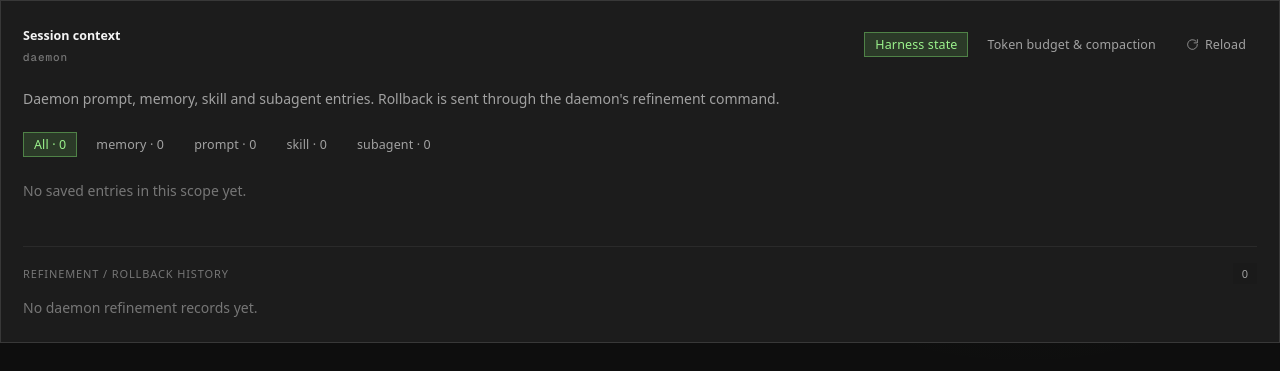
Test case: HarnessStatePanel native token budget › renders a daemon compaction failure as a visible notice
Click the button "Token budget & compaction" at point(1072, 44), box [976,32,1167,57]
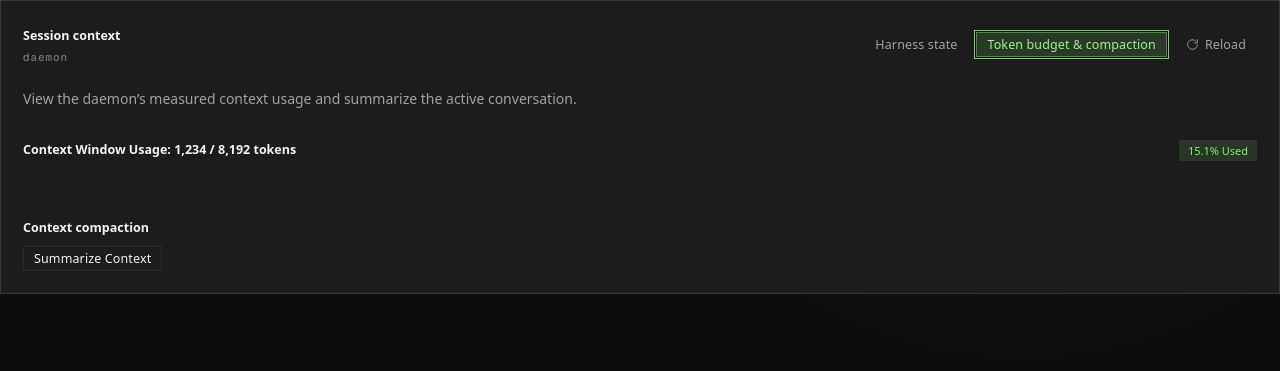
Click the button "Summarize Context" at point(93, 259), box [23,246,162,271]
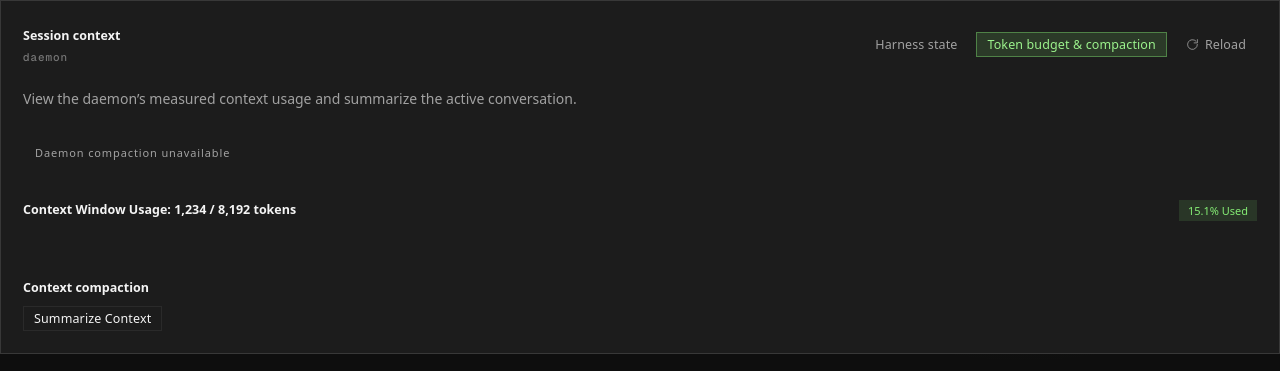
Expected: the text "Daemon compaction unavailable" is shown, [35,145,230,160]
